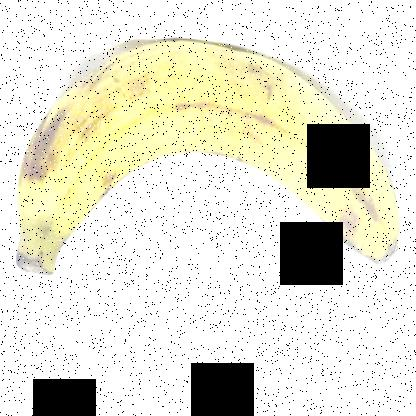ripe: (8, 29, 408, 288)
